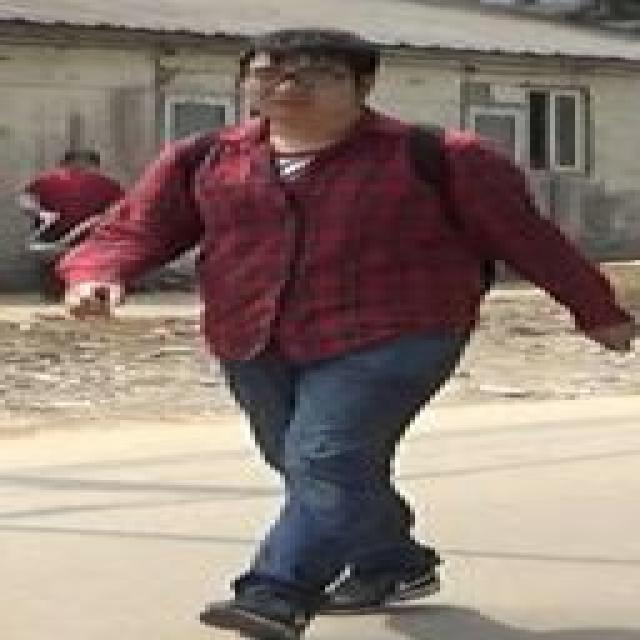adult: (48, 34, 634, 631)
